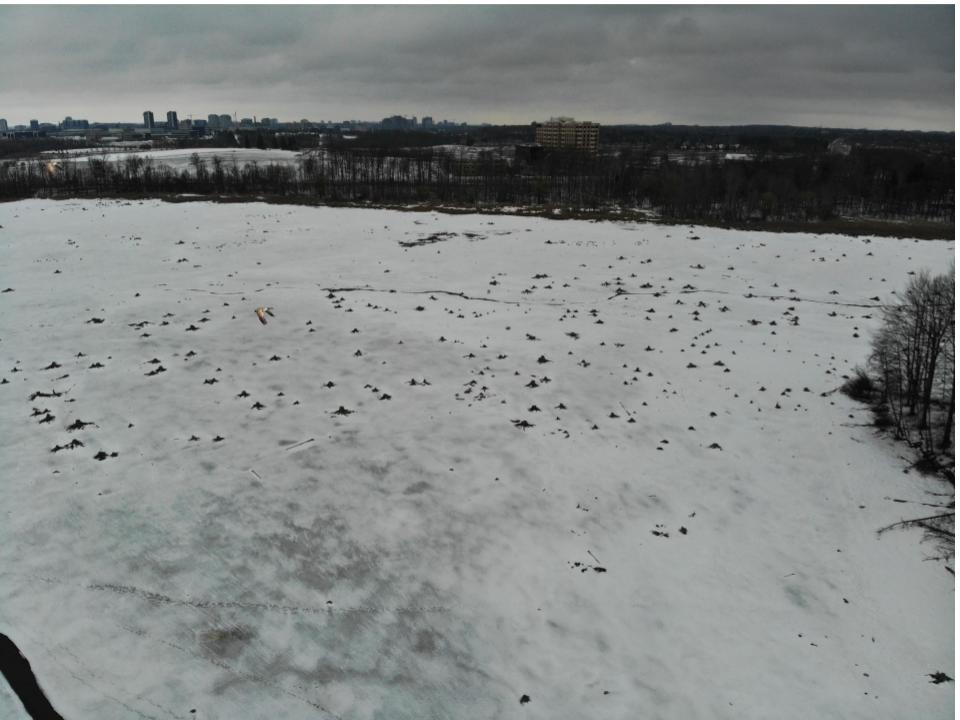goose: (39, 156, 67, 182), (251, 301, 278, 325)
